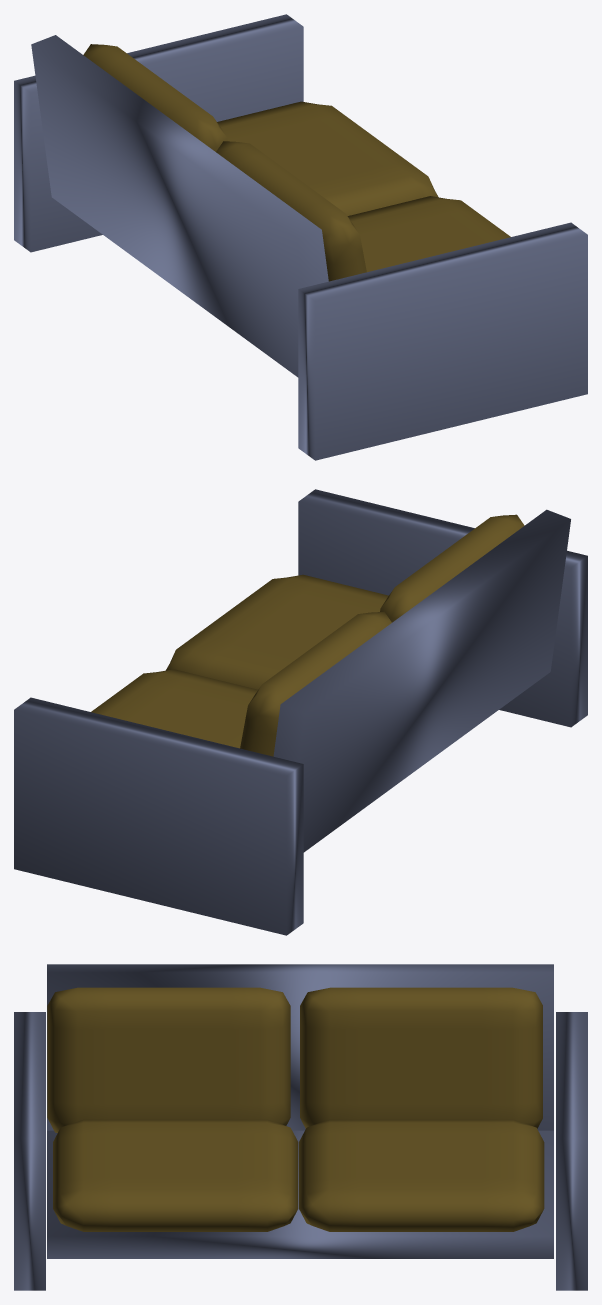
Rendered from CPI441_Fur_Couch_1_V2_Yellow.fbx.
The picture shows the model from 3 angles, top to bottom: view 1: azimuth 30°, elevation 25°; view 2: azimuth 150°, elevation 25°; view 3: azimuth 270°, elevation 25°; orthographic projection. The views are drawn at different scales.
Visible parts, largest first — view 1: Cube.002; view 2: Cube.002; view 3: Cube.002.
Boxes of the visible parts, box(x1,y1,x2,y2) form: Cube.002: box(14, 14, 587, 460); Cube.002: box(14, 489, 587, 935); Cube.002: box(14, 964, 587, 1290).
Size of the model in its own units: 375 by 267 by 685.
